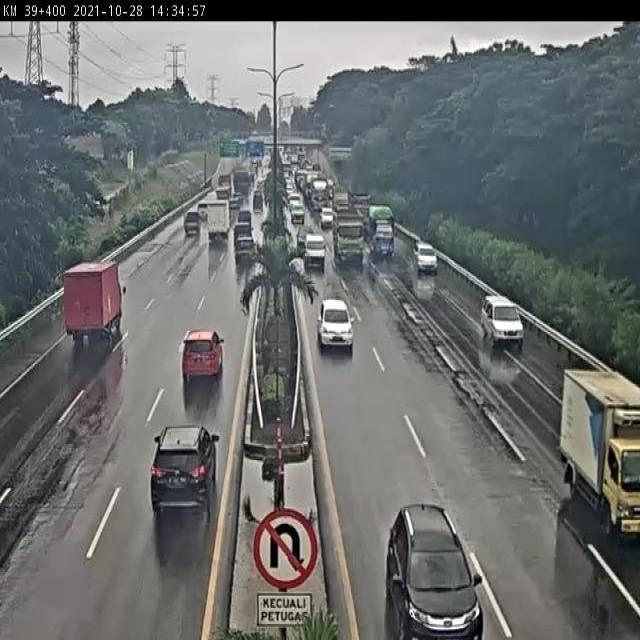big truck: (336, 220, 369, 271)
car: (371, 496, 493, 640), (146, 419, 224, 541), (480, 276, 529, 359), (179, 322, 228, 394), (319, 294, 360, 354), (301, 228, 328, 276), (411, 233, 436, 272), (236, 206, 263, 238), (236, 237, 259, 272), (179, 211, 203, 240)
small truck: (542, 368, 640, 540), (60, 260, 124, 360), (205, 200, 233, 255), (369, 210, 395, 258)
